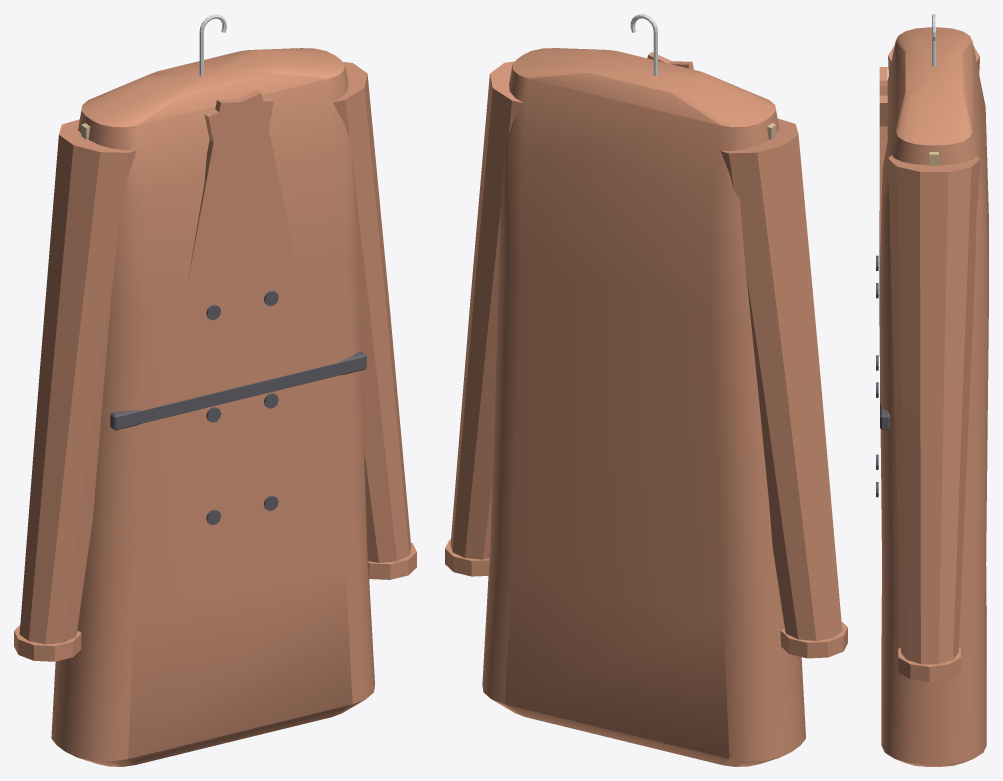
File: clothing-rail-and-wardrobe-coat-on-hanger-b22d8dff__35453.glb
3 views of the same model, side by side, from view 1: azimuth 30°, elevation 25°; view 2: azimuth 150°, elevation 25°; view 3: azimuth 270°, elevation 25° (orthographic). The views are drawn at different scales.
Parts seen in each view (by area): view 1: coat-on-hanger; view 2: coat-on-hanger; view 3: coat-on-hanger.
Part boxes in pixels (box(x1,y1,x2,y2)): coat-on-hanger: box(14, 14, 416, 766); coat-on-hanger: box(445, 14, 847, 766); coat-on-hanger: box(876, 14, 988, 766).
Size of the model in its own units: 0.6848 by 1.18 by 0.175.
